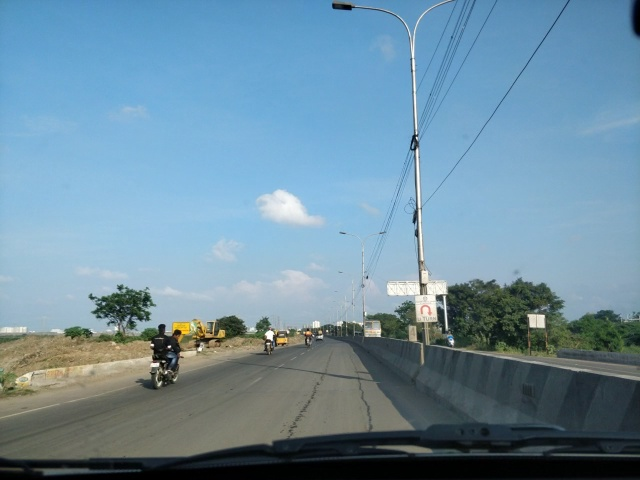auto: (274, 330, 291, 348)
motorbike: (146, 319, 183, 390), (260, 325, 276, 356), (443, 327, 459, 349), (302, 329, 316, 347)
tractor: (190, 315, 229, 353)
truck: (359, 319, 385, 341)
